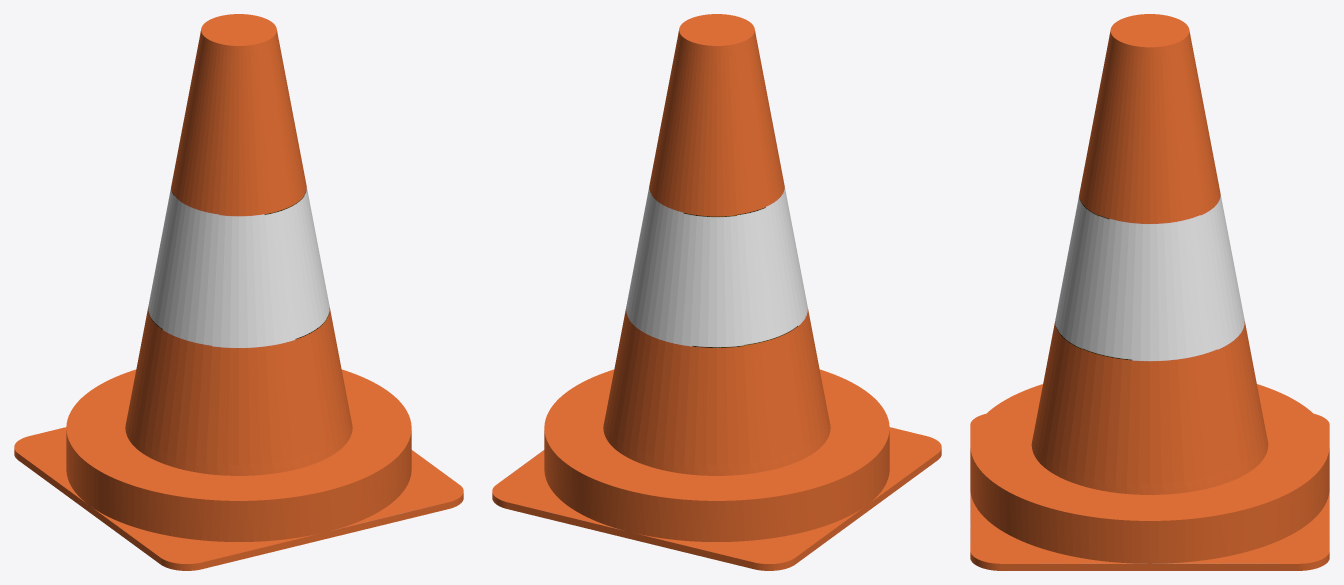
Rendered from oCone.glb.
3 views of the same model, side by side, from view 1: azimuth 30°, elevation 25°; view 2: azimuth 150°, elevation 25°; view 3: azimuth 270°, elevation 25° (orthographic). The views are drawn at different scales.
Parts seen in each view (by area): view 1: Cone; view 2: Cone; view 3: Cone.
Boxes of the visible parts, box(x1,y1,x2,y2) form: Cone: box(14, 14, 463, 570); Cone: box(492, 14, 941, 570); Cone: box(970, 14, 1329, 570).
Bounding box in the file's own units: 0.228 × 0.325 × 0.228.
Materials: 1 (1 with a texture image).
